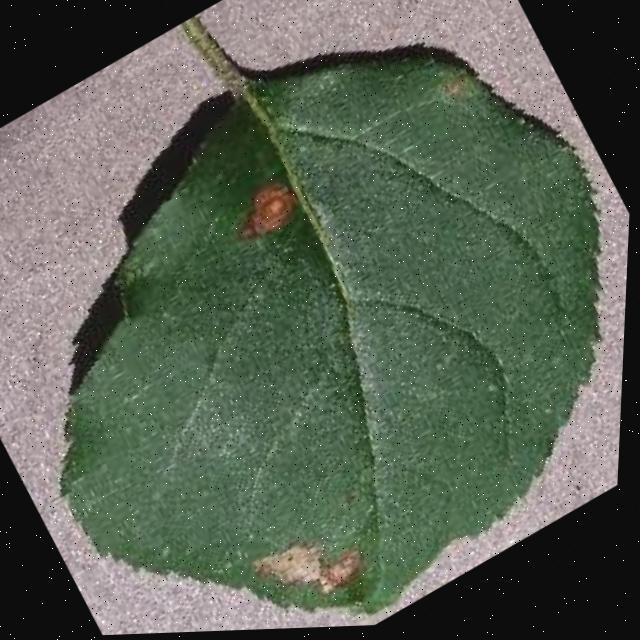black_rot: (229, 494, 389, 630), (221, 160, 323, 259)
